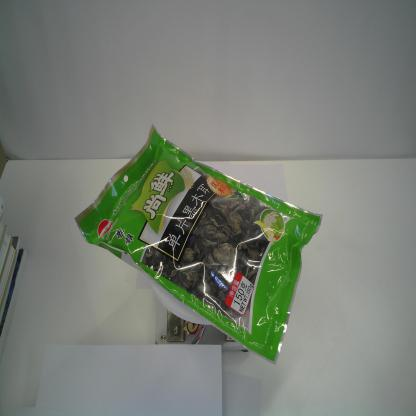Dried Food: (74, 123, 324, 365)
